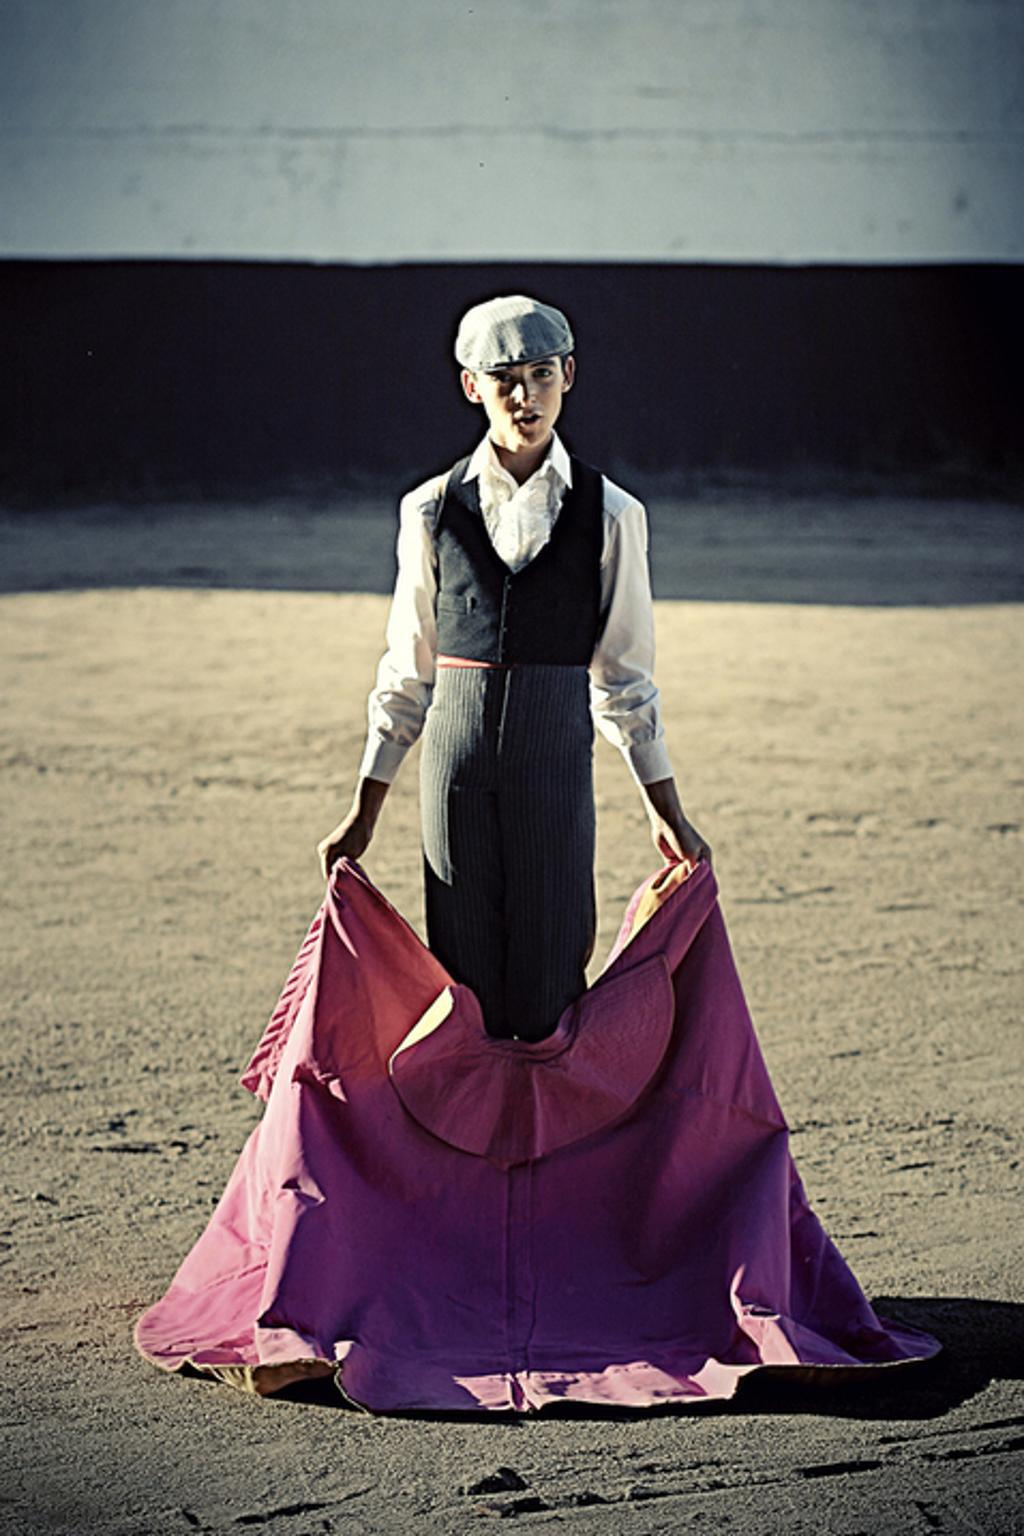face: (487, 337, 562, 439)
